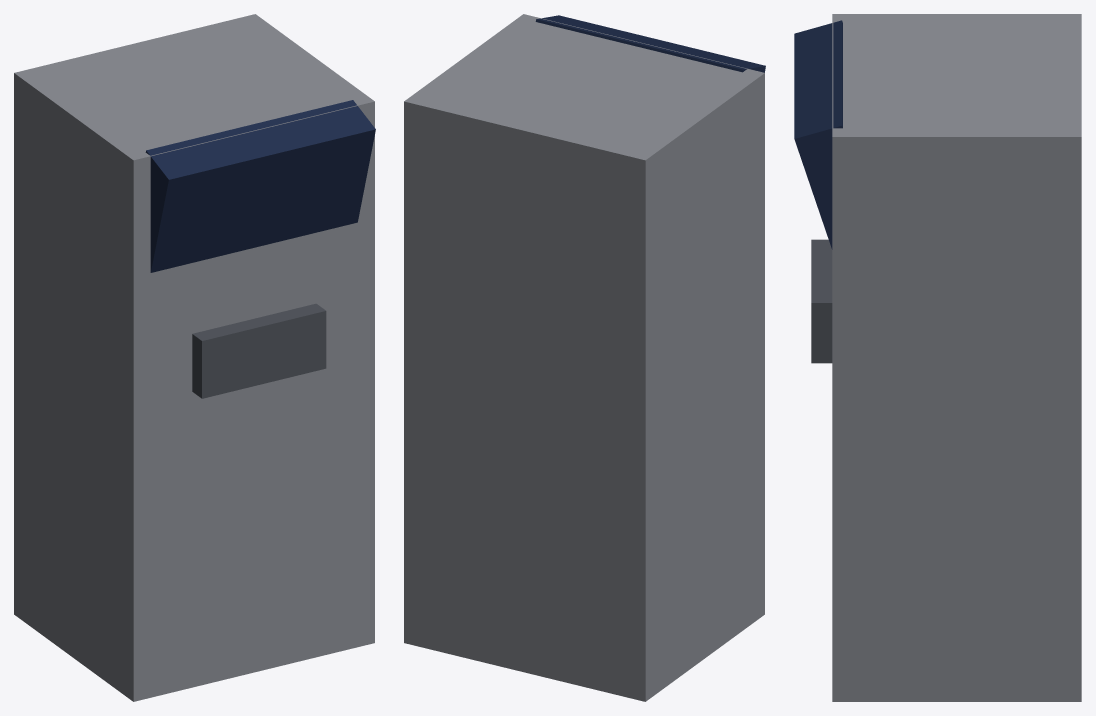
File: atm.glb
The picture shows the model from 3 angles, left to right: view 1: azimuth 30°, elevation 25°; view 2: azimuth 150°, elevation 25°; view 3: azimuth 270°, elevation 25°; orthographic projection. The views are drawn at different scales.
Visible parts, largest first — view 1: atm; view 2: atm; view 3: atm.
Part boxes in pixels (x1,y1,x2,y2): atm: [14, 14, 375, 701]; atm: [404, 14, 765, 701]; atm: [794, 14, 1081, 701].
Size of the model in its own units: 0.7 by 1.51 by 0.6912.
